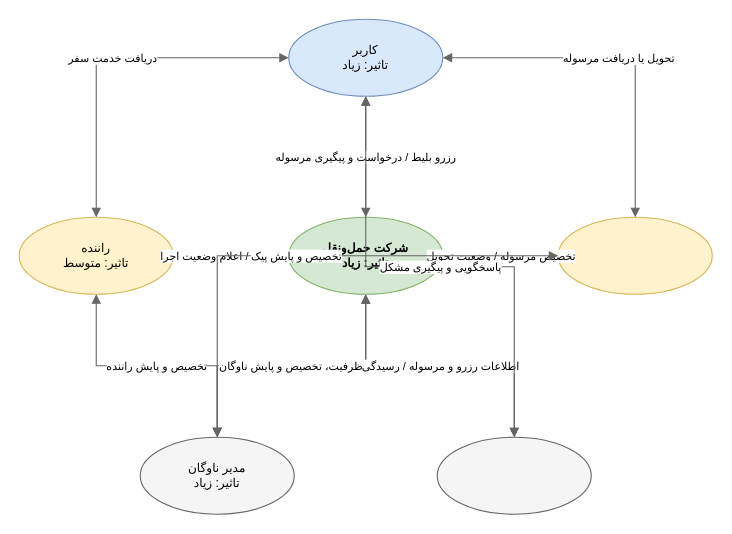
This 732x534 diagram has some shape labels left out. The centre of each missing label's shape, as x and y in pixels:
"پشتیبانی تاثیر: متوسط" belongs at pixel 513 475.
"پیک تاثیر: متوسط" belongs at pixel 634 255.
